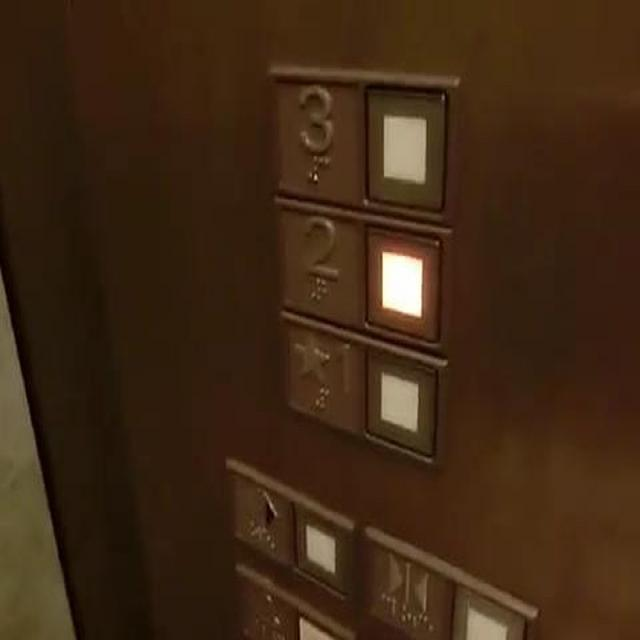2: (269, 186, 452, 358)
3: (266, 60, 462, 224)
open: (221, 452, 356, 609)
s1: (270, 300, 447, 469)
